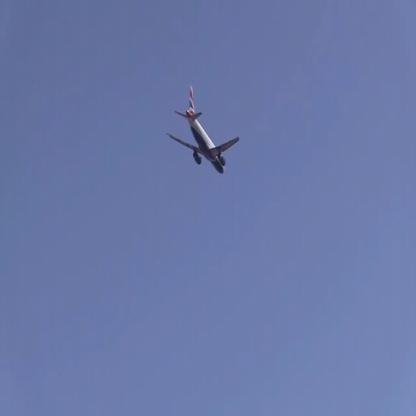CIV_Plane: (165, 84, 239, 174)
